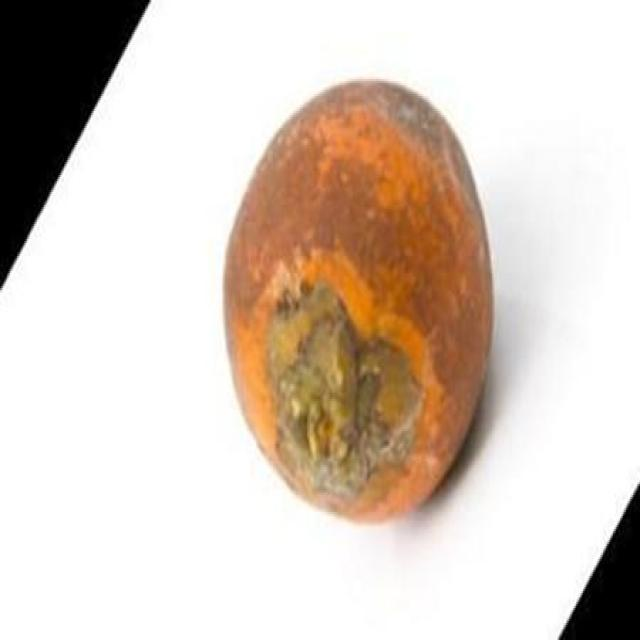good: (222, 81, 494, 527)
